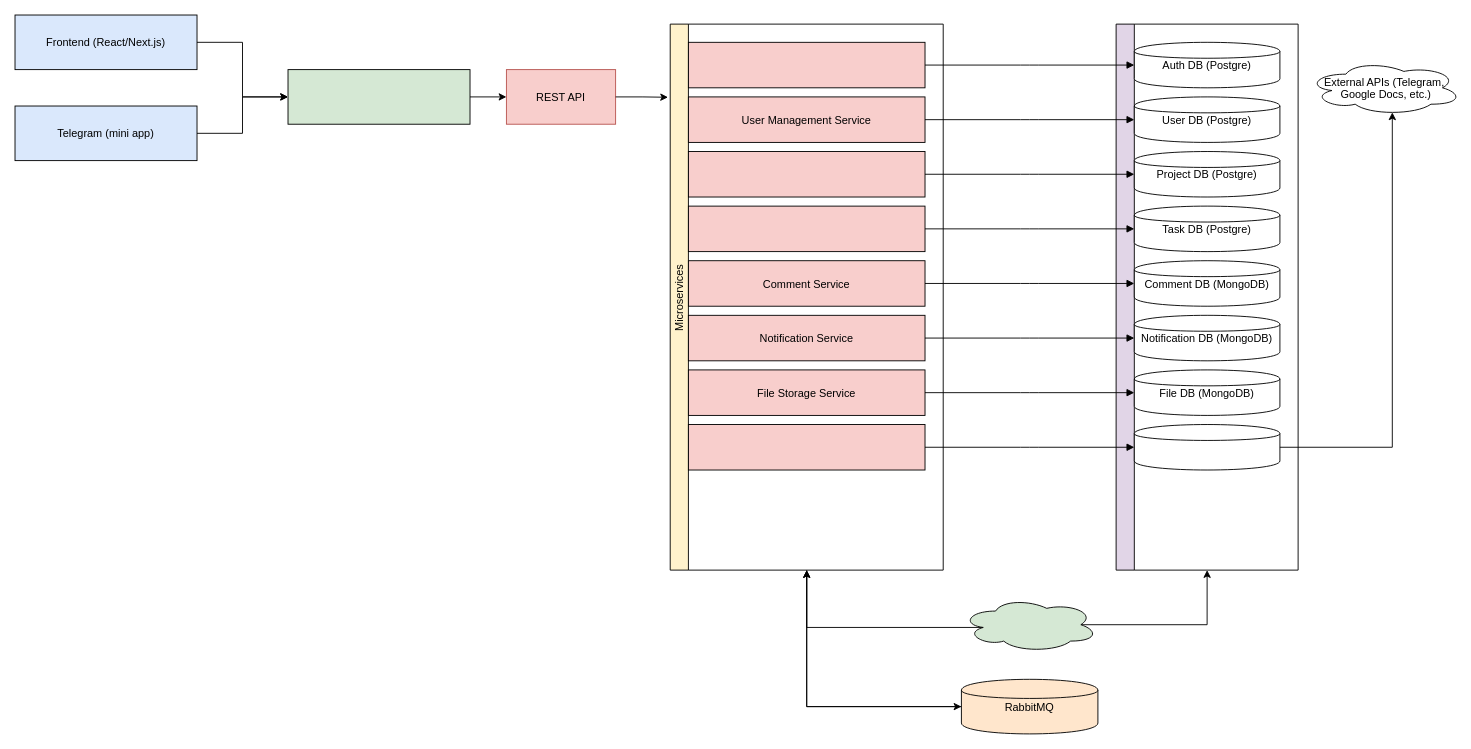
Some shapes in this 1471 by 749 pixel diagram are drawn without their labels. Here are the shapes that lost their labels. From the top down, the box of each, then its label:
(688, 41, 925, 88): Auth Service
(287, 69, 470, 124): Backend for Frontend (BFF)
(688, 151, 925, 197): Project Service
(688, 205, 925, 252): Task Service
(1115, 23, 1298, 570): Databases
(688, 424, 925, 470): Integration Service
(1133, 424, 1280, 470): Integration DB (MongoDB)
(961, 597, 1098, 652): Redis
